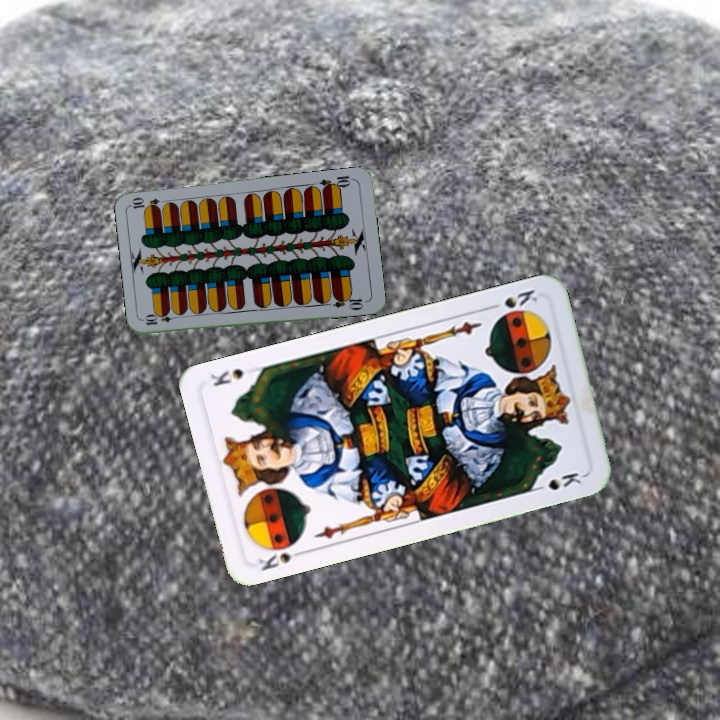E10: (316, 171, 356, 193), (141, 310, 182, 328)
SK: (483, 285, 540, 313), (255, 545, 309, 574)
